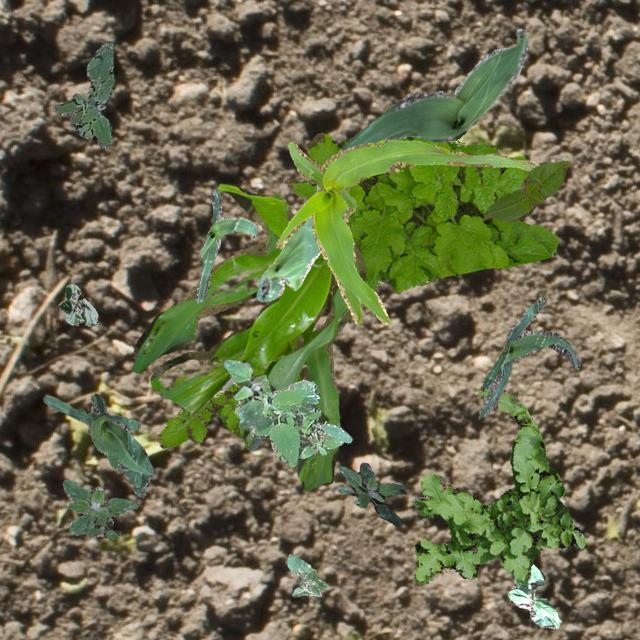crop: (133, 182, 364, 489), (274, 138, 538, 324), (339, 28, 526, 150), (478, 296, 580, 418), (42, 392, 154, 497), (194, 188, 256, 302), (256, 217, 320, 300), (482, 160, 568, 220), (506, 562, 560, 628), (286, 552, 326, 596), (58, 284, 98, 324)
weed: (286, 132, 558, 292), (412, 384, 584, 582), (154, 358, 272, 446), (234, 378, 352, 466), (52, 40, 115, 146), (61, 478, 138, 538), (336, 462, 404, 524), (222, 358, 272, 429)
